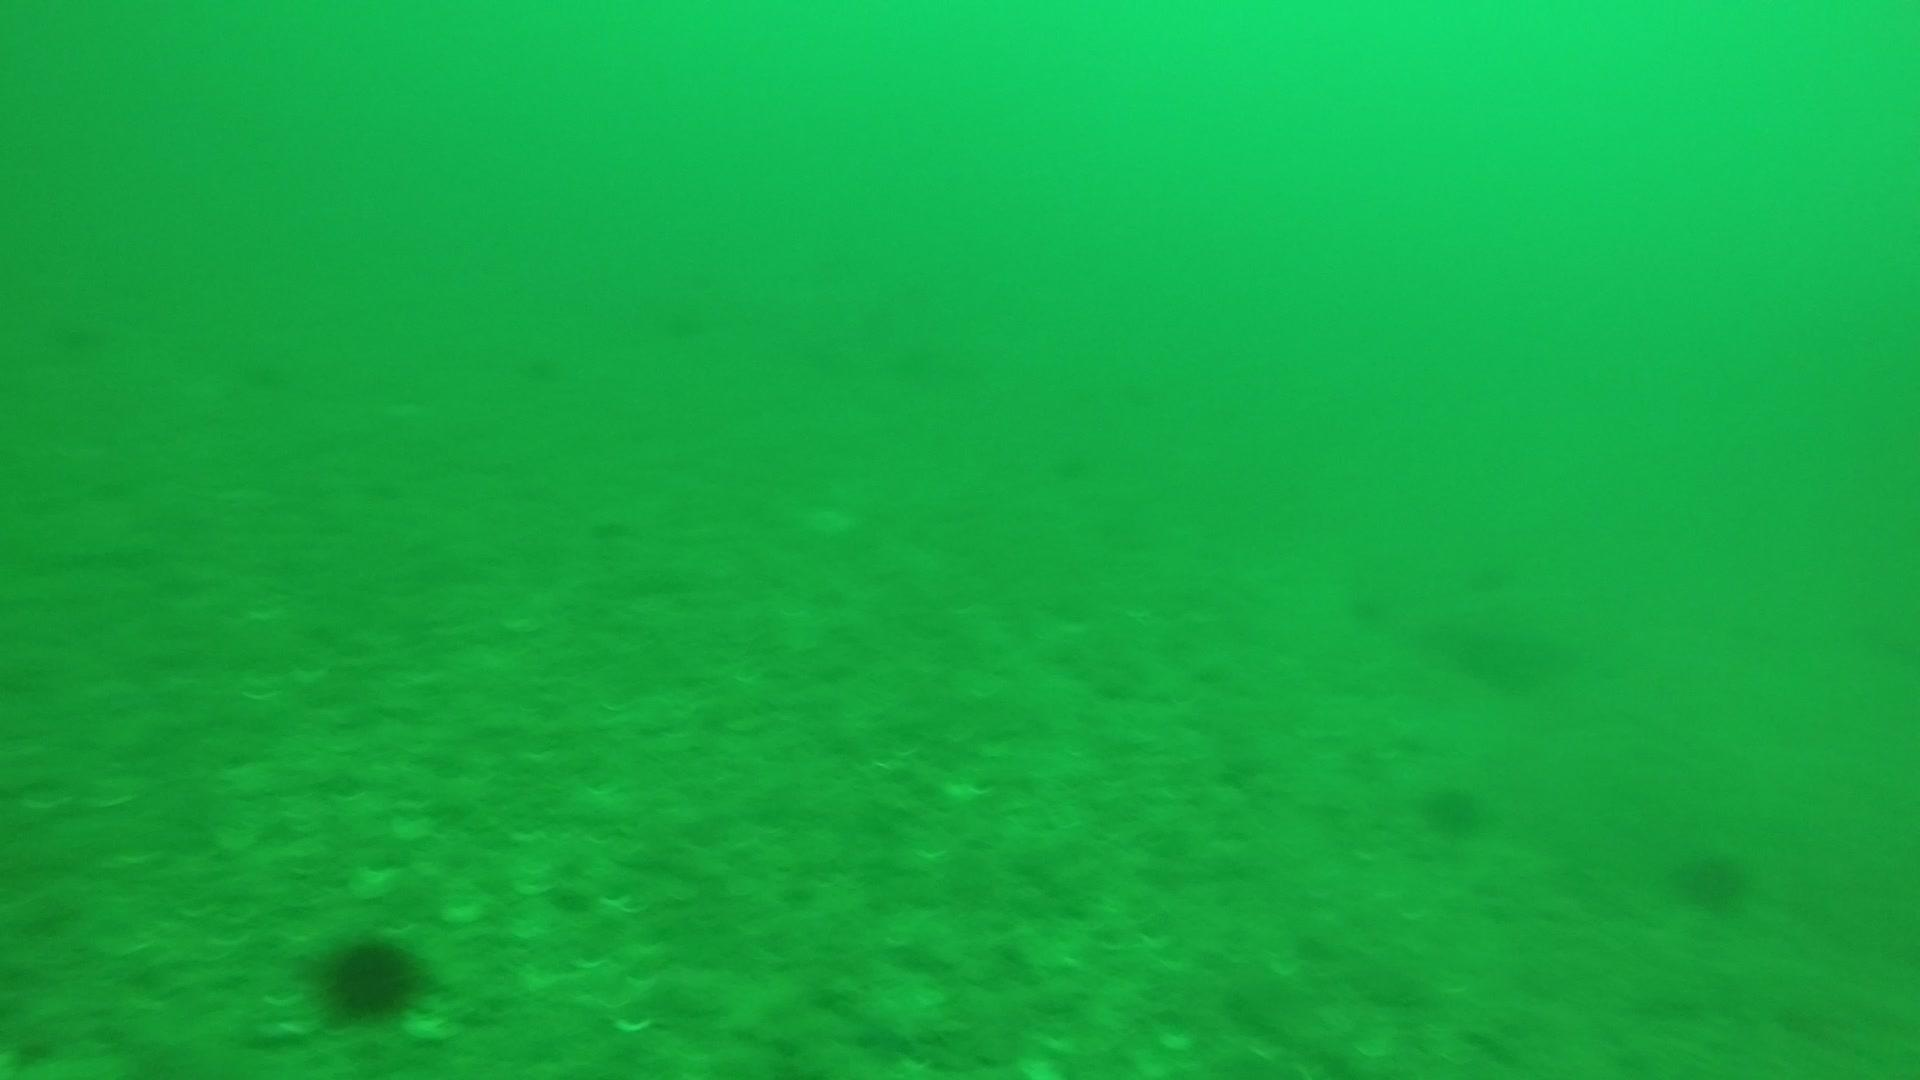echinus: (311, 927, 430, 1026), (1665, 837, 1756, 915), (1415, 774, 1491, 843)
